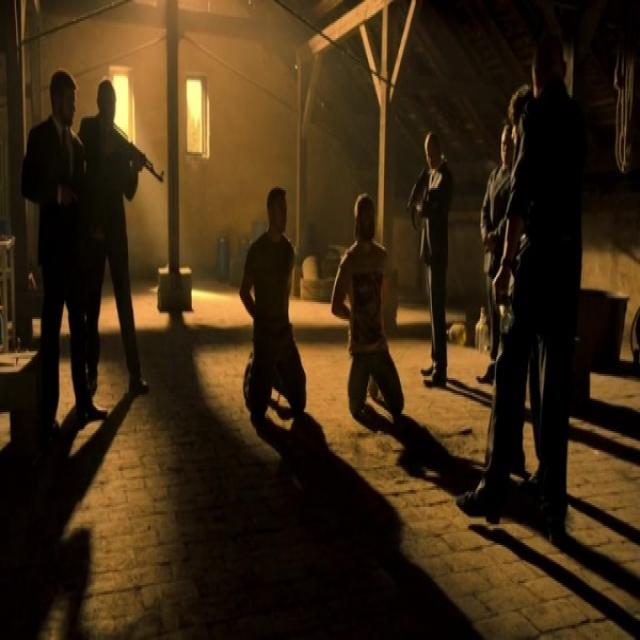rifle: (107, 130, 169, 189)
